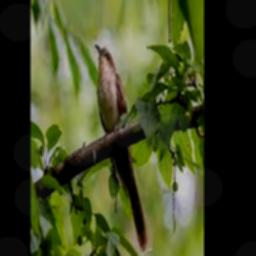Cuckoo: (94, 43, 152, 255)
